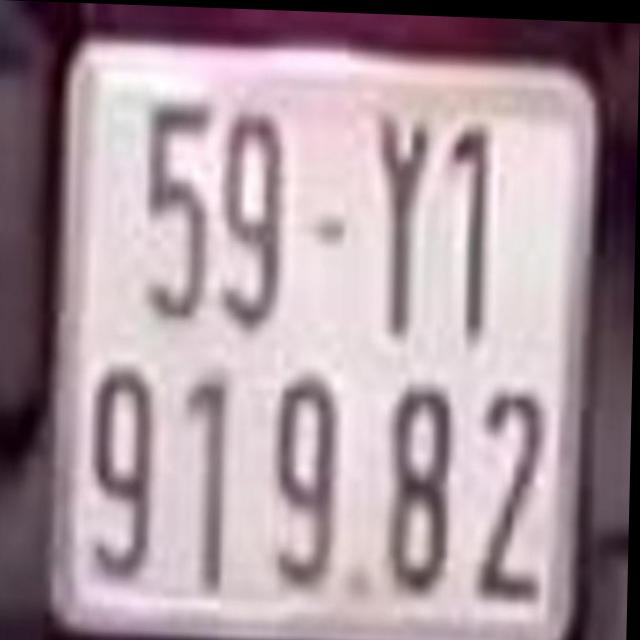1: (447, 113, 495, 333), (183, 386, 234, 574)
2: (479, 388, 547, 598)
5: (149, 106, 214, 323)
8: (391, 378, 454, 584)
9: (90, 367, 161, 569), (224, 115, 286, 318), (281, 378, 334, 578)
Y: (369, 117, 428, 333)
